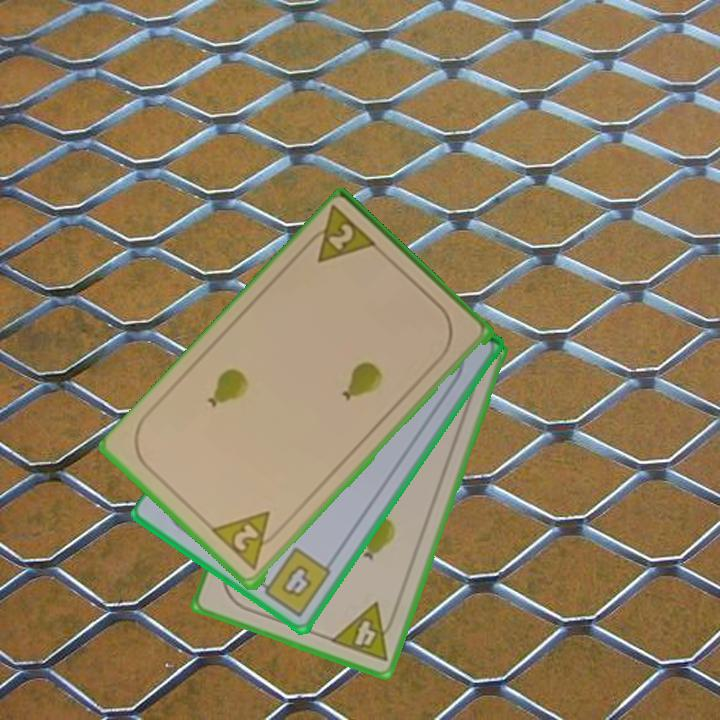2p: (209, 507, 286, 575), (300, 204, 382, 267)
4b: (254, 543, 335, 620)
4p: (327, 599, 401, 665)
